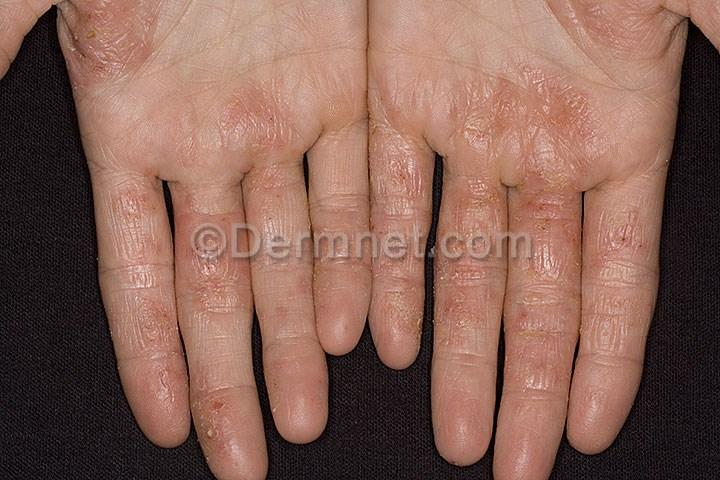Eczema: (465, 35, 599, 172), (84, 145, 207, 266), (69, 0, 194, 118), (239, 150, 323, 279), (368, 71, 459, 186), (431, 178, 529, 283), (117, 257, 206, 364), (321, 192, 406, 297), (506, 305, 580, 412), (585, 148, 645, 273), (433, 285, 513, 377), (526, 172, 594, 277), (223, 71, 306, 150), (591, 274, 650, 381), (210, 226, 263, 324), (277, 342, 325, 426), (204, 393, 248, 460)
